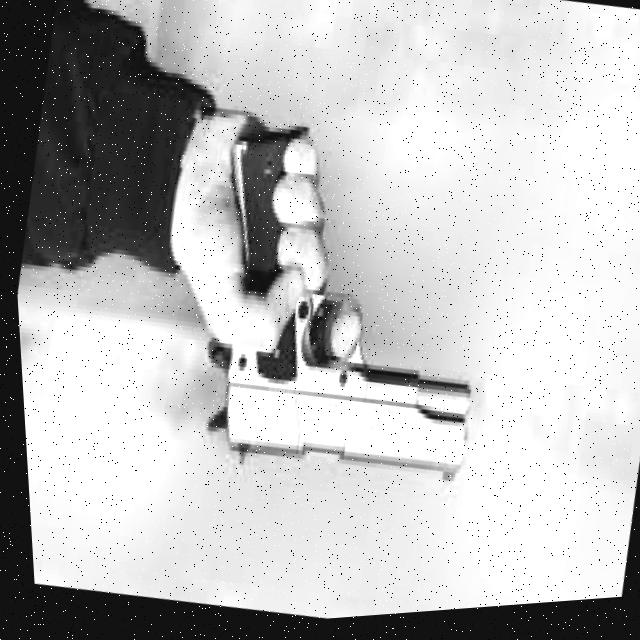pistol: (179, 263, 488, 506)
